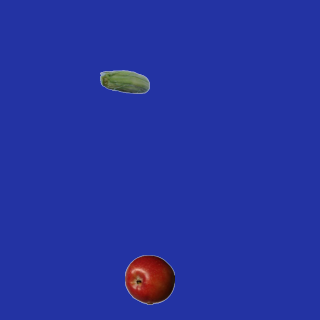Apple Braeburn: (124, 254, 174, 304)
Corn Husk: (99, 58, 149, 108)
